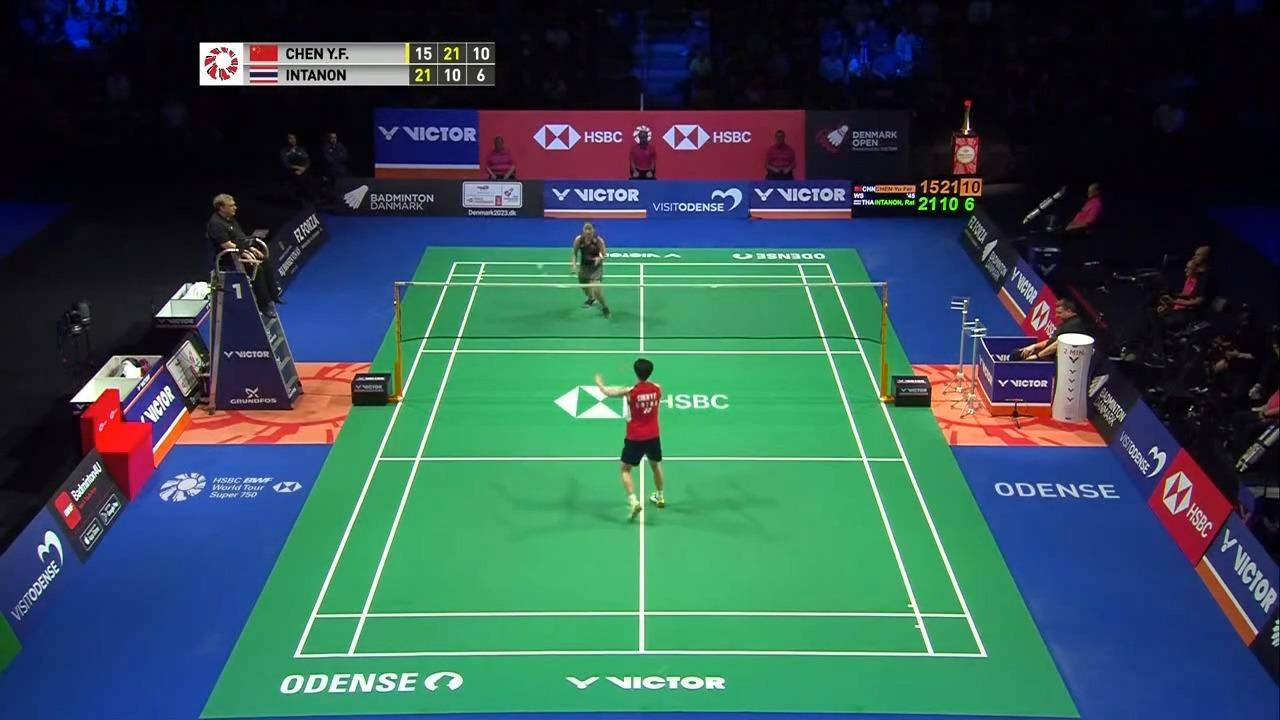shuttle: (533, 263, 550, 274)
